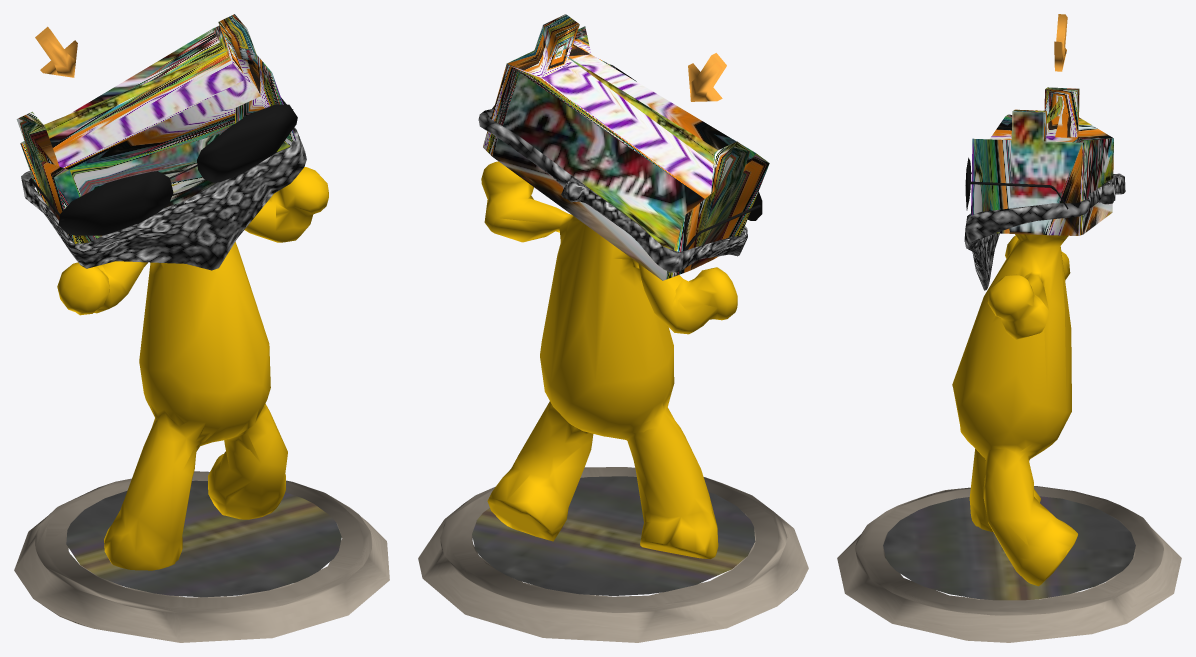
3 views of the same model, side by side, from view 1: azimuth 30°, elevation 25°; view 2: azimuth 150°, elevation 25°; view 3: azimuth 270°, elevation 25° (orthographic). The views are drawn at different scales.
Size of the model in its own units: 1.45 by 2.29 by 1.43.
Materials: 7 (5 with a texture image).
